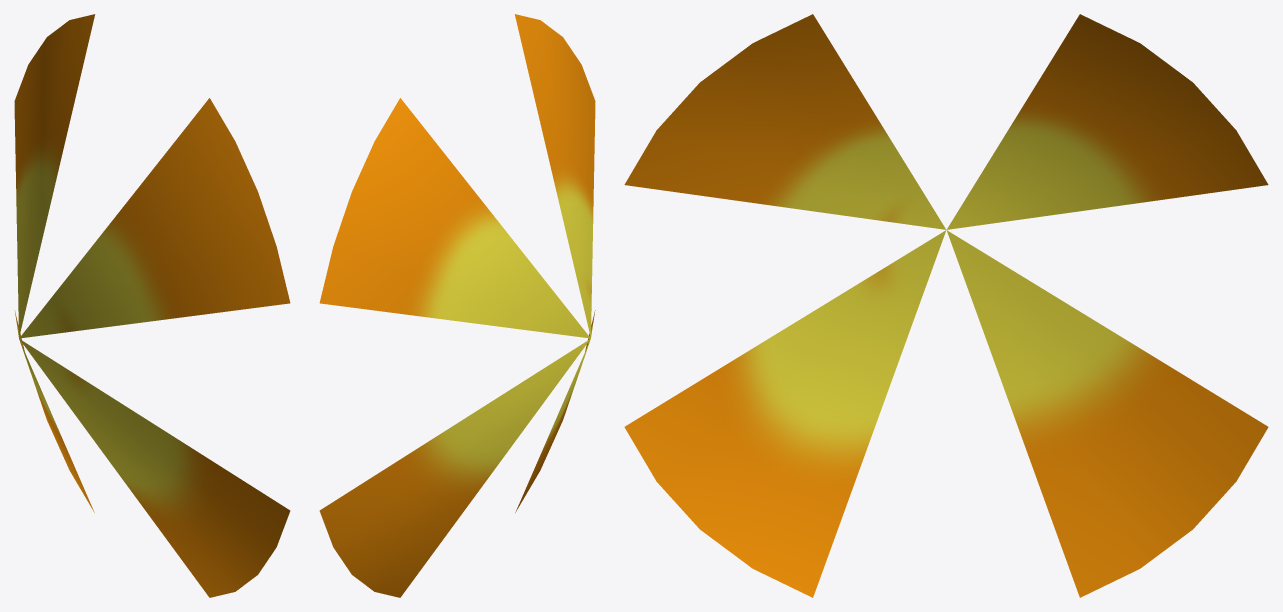
Rendered from MuzzleFlash.fbx.
3 renders of one model, left to right at view 1: azimuth 30°, elevation 25°; view 2: azimuth 150°, elevation 25°; view 3: azimuth 270°, elevation 25°, orthographic. The views are drawn at different scales.
Visible parts, largest first — view 1: MuzzleFlash; view 2: MuzzleFlash; view 3: MuzzleFlash.
Part boxes in pixels (bbox=[...]): MuzzleFlash: bbox=[14, 14, 290, 597]; MuzzleFlash: bbox=[319, 14, 595, 597]; MuzzleFlash: bbox=[624, 14, 1268, 597].
Bounding box in the file's own units: 185 × 51.59 × 185.
